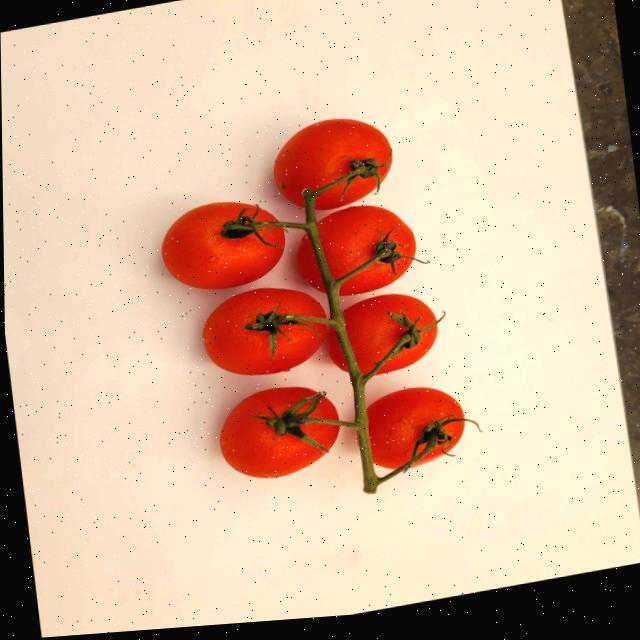ripe2: (219, 387, 339, 478), (161, 202, 285, 289), (202, 288, 326, 375), (273, 119, 392, 209), (318, 205, 415, 295), (367, 387, 464, 471), (343, 294, 437, 375), (296, 235, 324, 291), (326, 332, 346, 370)
